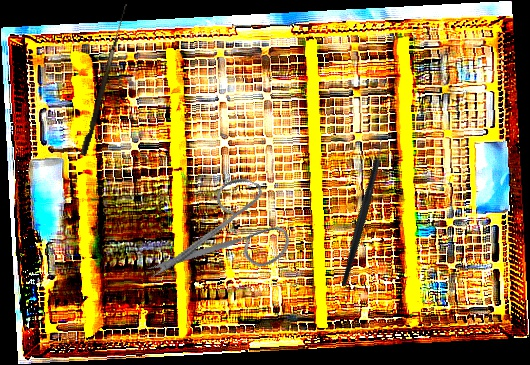Chopper: (292, 131, 430, 287)
Hook Surgical: (80, 2, 127, 157)
Iris Scissors: (142, 156, 308, 325)
